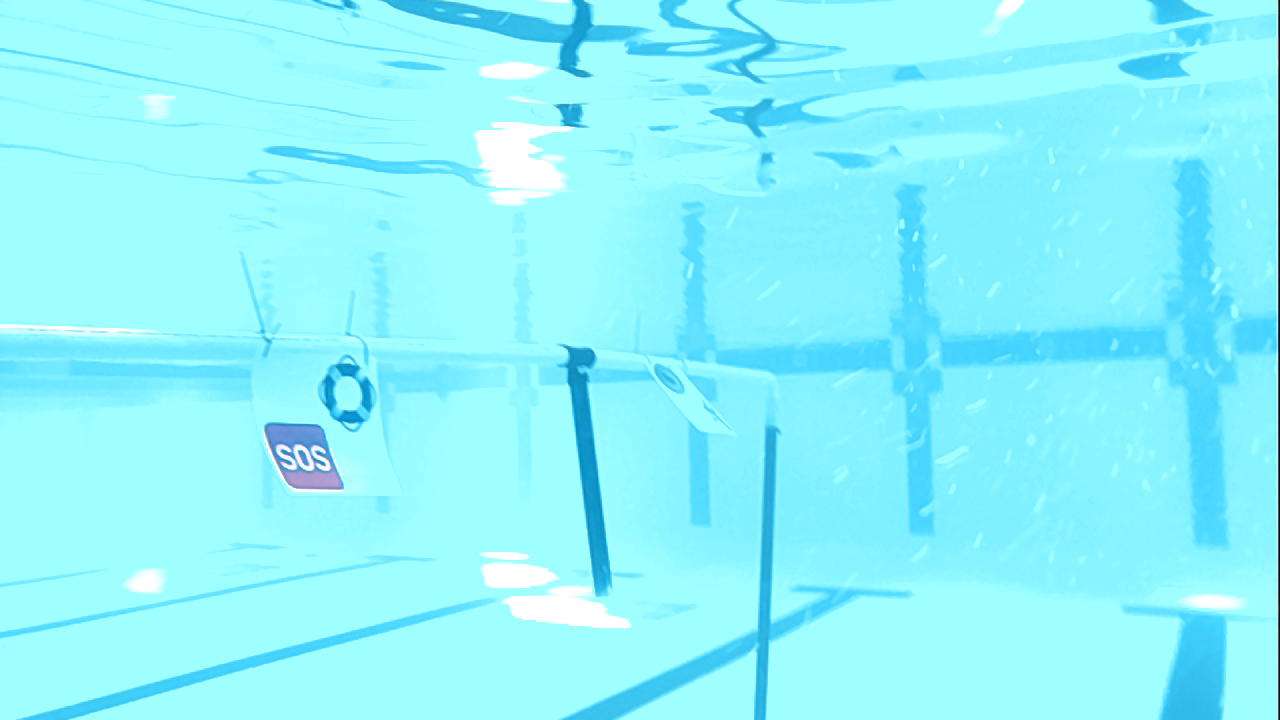gate_leg_center: (556, 341, 612, 597)
gate_leg_r: (753, 422, 780, 719)
sos_safety: (247, 350, 398, 495)
